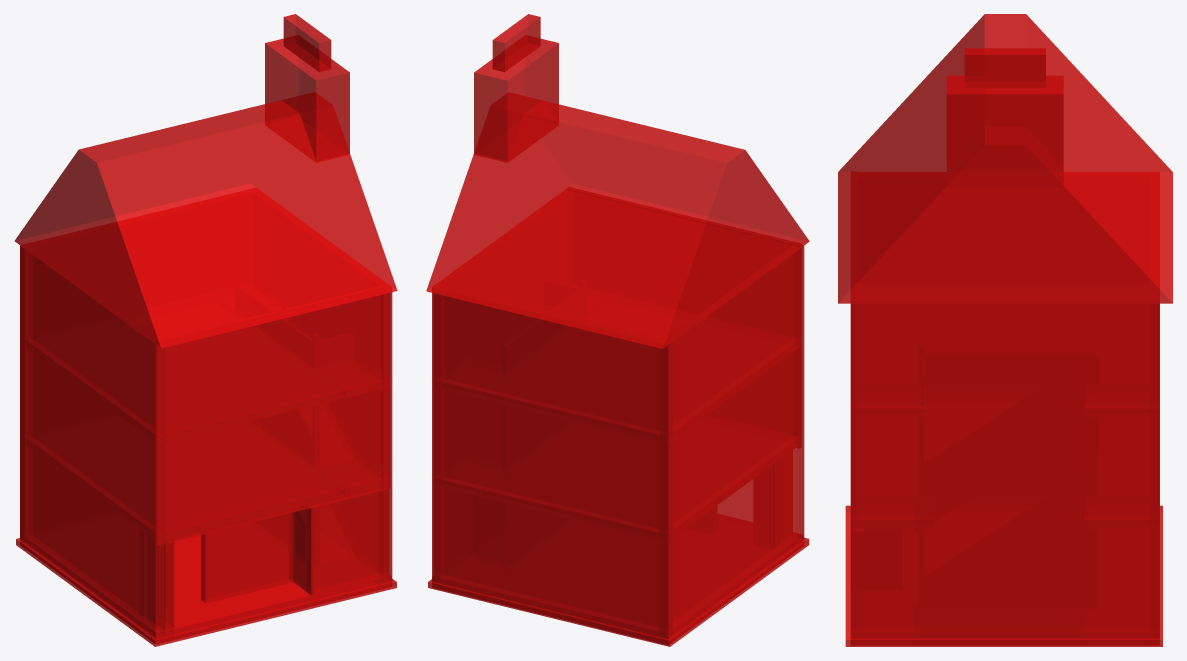
The model's file is SM_Bld_City_Preset_01_Collision.fbx.
3 renders of one model, left to right at view 1: azimuth 30°, elevation 25°; view 2: azimuth 150°, elevation 25°; view 3: azimuth 270°, elevation 25°, orthographic. The views are drawn at different scales.
Parts seen in each view (by area): view 1: SM_Bld_City_Preset_01_Collision; view 2: SM_Bld_City_Preset_01_Collision; view 3: SM_Bld_City_Preset_01_Collision.
Boxes of the visible parts, x1,y1,x2,y2 form: SM_Bld_City_Preset_01_Collision: [14, 14, 397, 646]; SM_Bld_City_Preset_01_Collision: [426, 14, 809, 646]; SM_Bld_City_Preset_01_Collision: [838, 14, 1172, 646].
Bounding box in the file's own units: 776 × 1574 × 817.
